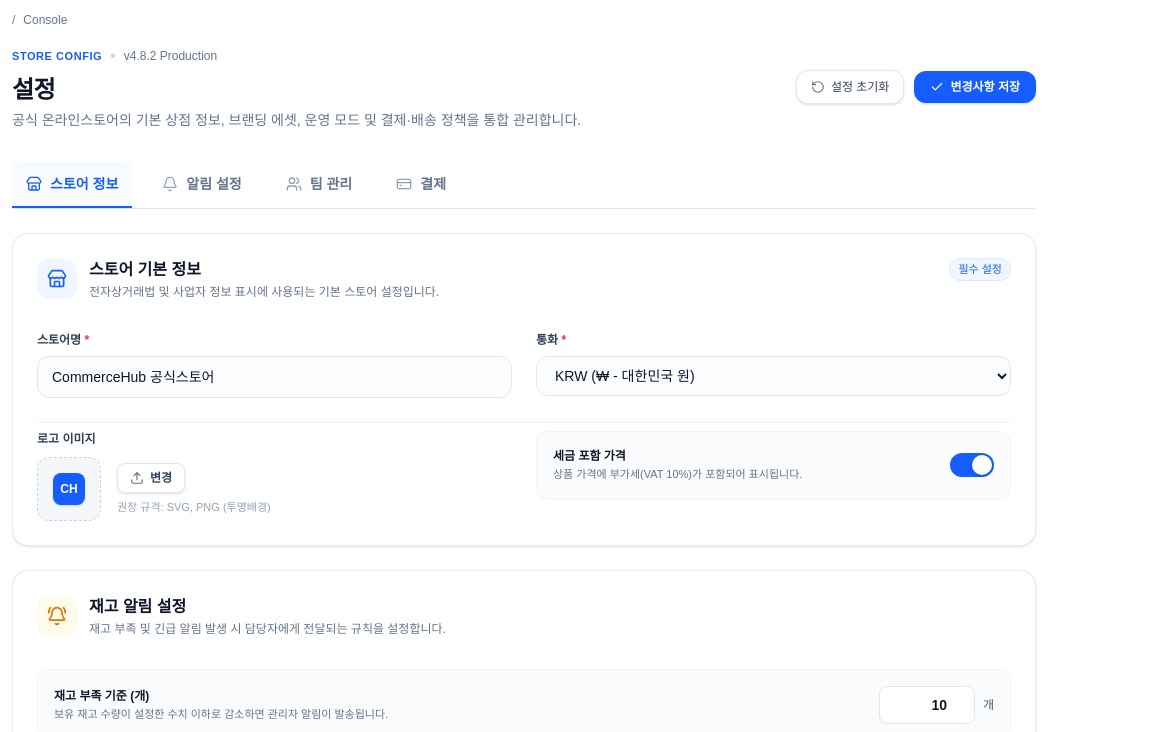
Test case: SettingsView Component › handles reset button to restore initial values
Replace the text in the field labelled "스토어명 *" with "임시 이름". click: (274, 377)
box: [37,356,512,398]
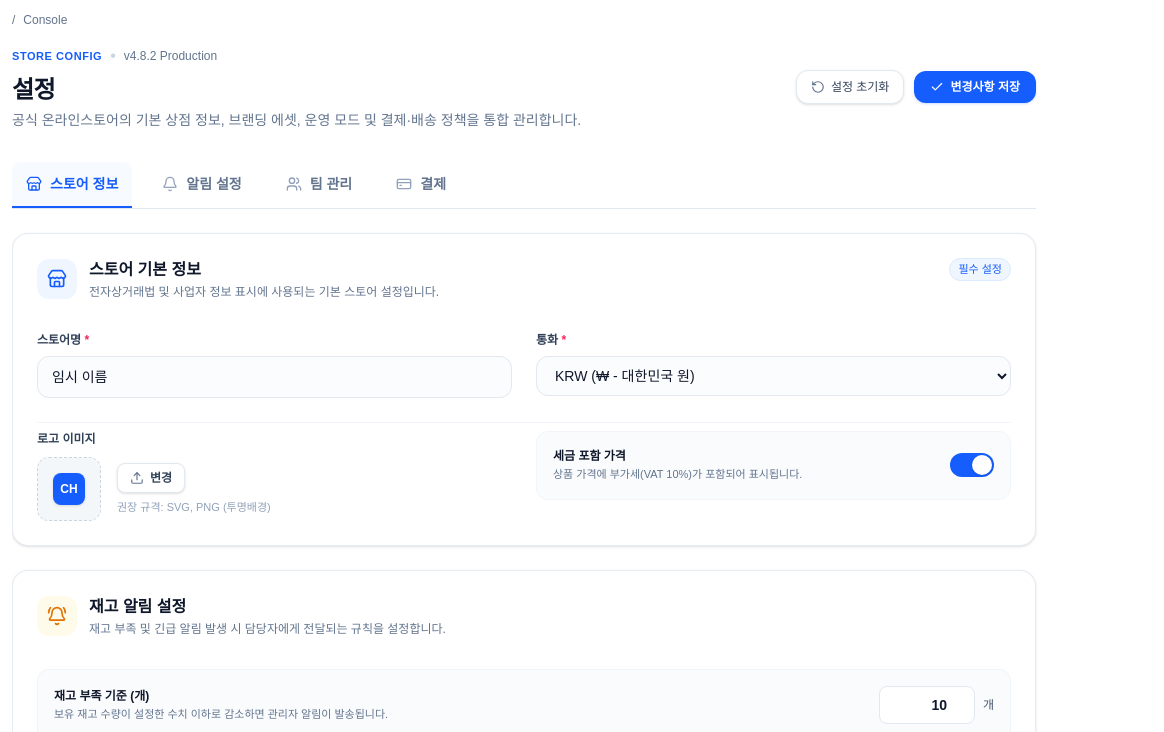
Click the button "설정 초기화". click: (850, 87)
box: [796,70,904,104]
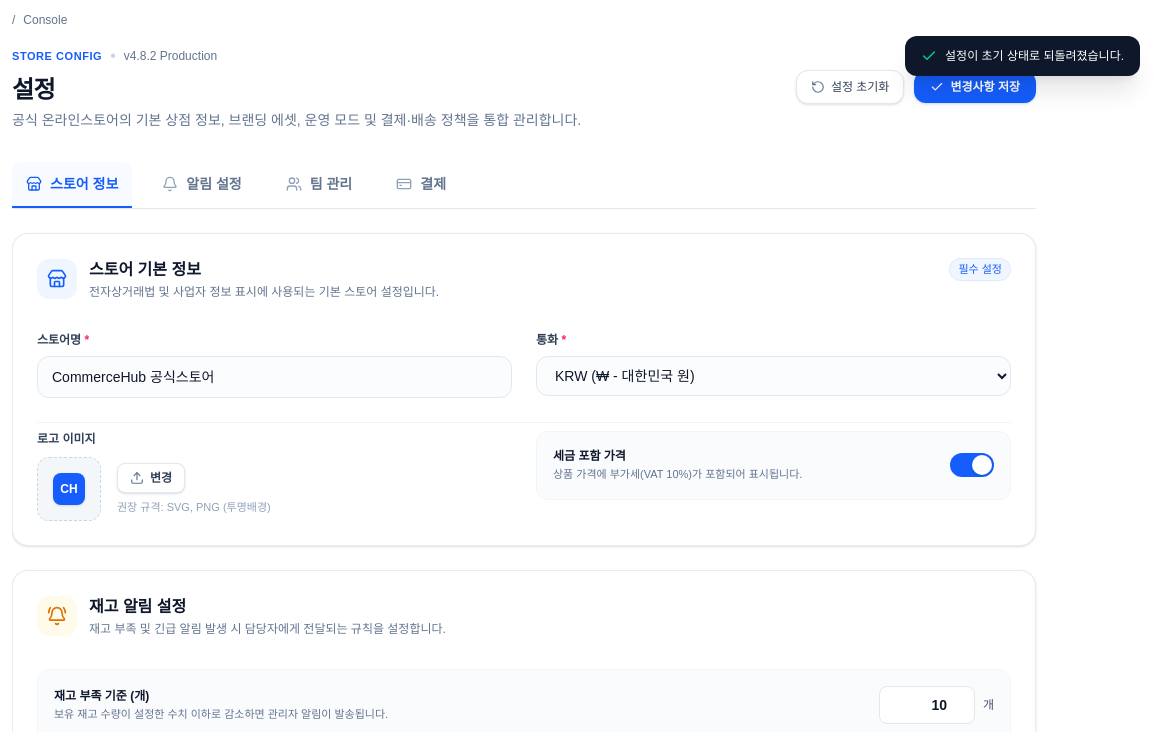
expect the field labelled "스토어명 *" holds "CommerceHub 공식스토어": met, box [37,356,512,398]
expect the text "설정이 초기 상태로 되돌려졌습니다." is shown: met, box [945,48,1124,64]
